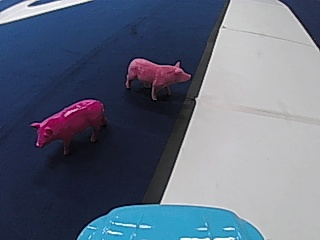pig: (30, 95, 107, 153), (120, 54, 192, 99)
